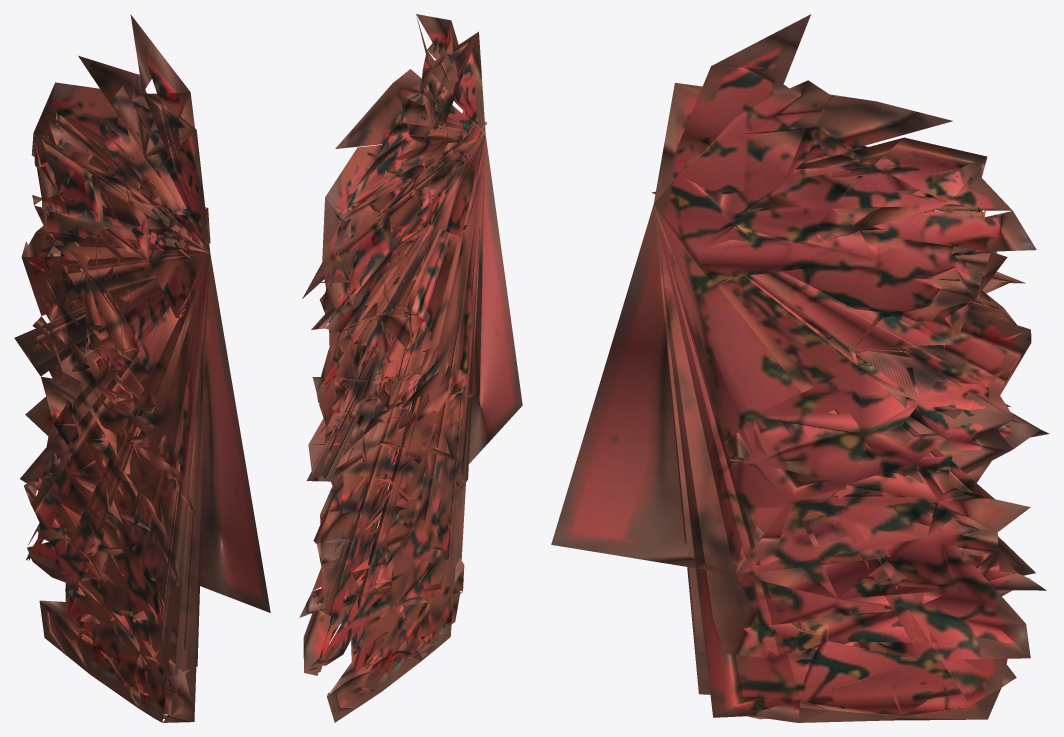
File: Pared Corrompida.glb
The picture shows the model from 3 angles, left to right: view 1: azimuth 30°, elevation 25°; view 2: azimuth 150°, elevation 25°; view 3: azimuth 270°, elevation 25°; orthographic projection. The views are drawn at different scales.
Visible parts, largest first — view 1: tripo_node_4ffac347-02d7-410d-8a78-e85b3e84394a; view 2: tripo_node_4ffac347-02d7-410d-8a78-e85b3e84394a; view 3: tripo_node_4ffac347-02d7-410d-8a78-e85b3e84394a.
Part boxes in pixels (left/top/right/bottom): tripo_node_4ffac347-02d7-410d-8a78-e85b3e84394a: left=14, top=14, right=270, bottom=722; tripo_node_4ffac347-02d7-410d-8a78-e85b3e84394a: left=299, top=14, right=522, bottom=722; tripo_node_4ffac347-02d7-410d-8a78-e85b3e84394a: left=551, top=14, right=1049, bottom=722.
Size of the model in its own units: 0.00568 by 0.1776 by 0.1133.
Materials: 1 (1 with a texture image).
